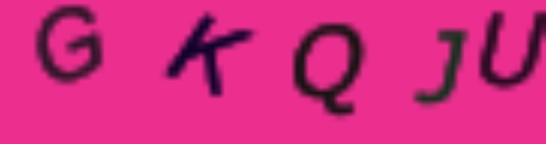G: (31, 1, 104, 86)
J: (408, 26, 467, 108)
K: (162, 8, 254, 98)
Q: (291, 20, 367, 117)
U: (473, 9, 546, 96)
